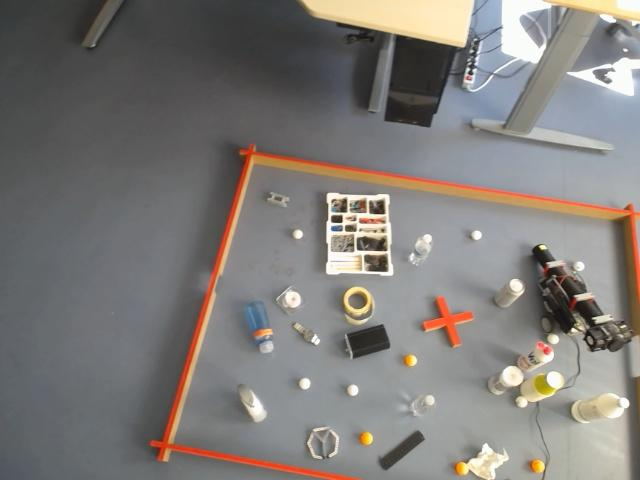orange: (454, 460, 471, 478), (403, 351, 419, 370), (530, 459, 546, 475), (359, 431, 374, 445)
robot: (533, 245, 635, 352)
robot-front: (533, 244, 554, 265)
white: (297, 376, 312, 392), (572, 259, 587, 273), (346, 383, 360, 397), (471, 228, 483, 242), (292, 228, 304, 241), (516, 396, 528, 408), (548, 332, 559, 345)
